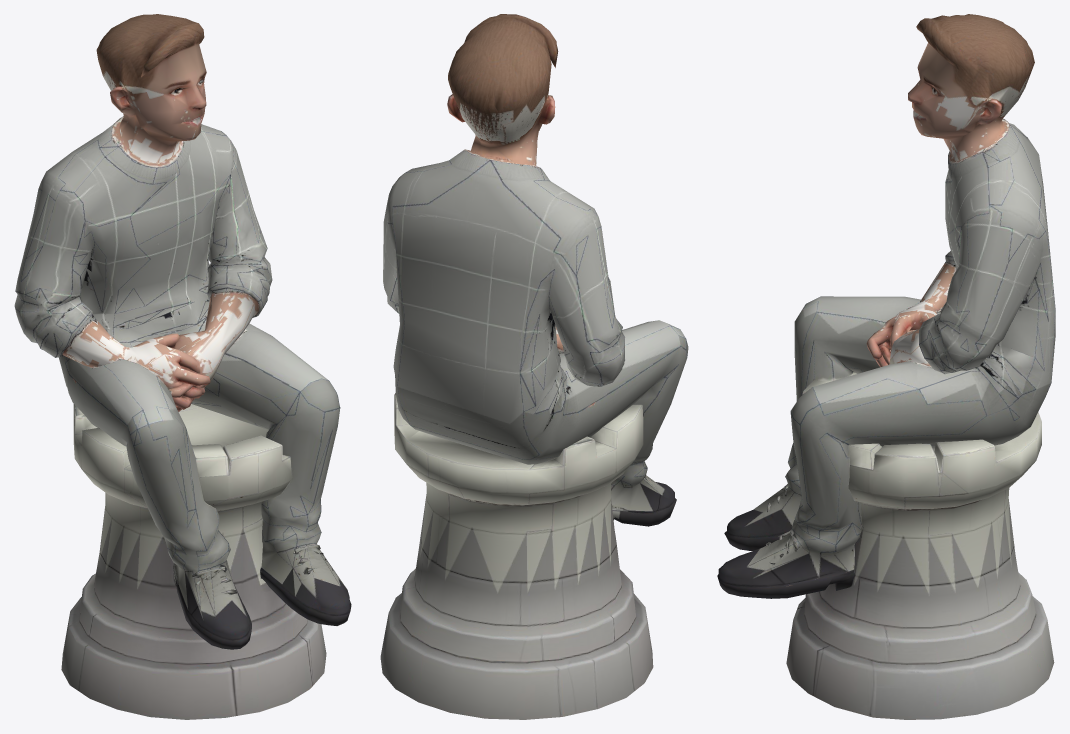
File: Rook_Alex_White.glb
The picture shows the model from 3 angles, left to right: view 1: azimuth 30°, elevation 25°; view 2: azimuth 150°, elevation 25°; view 3: azimuth 270°, elevation 25°; orthographic projection. The views are drawn at different scales.
Visible parts, largest first — view 1: tripo_node_13b20d3c-01ea-4338-8728-752922d211e0; view 2: tripo_node_13b20d3c-01ea-4338-8728-752922d211e0; view 3: tripo_node_13b20d3c-01ea-4338-8728-752922d211e0.
Boxes of the visible parts, box(x1,y1,x2,y2) form: tripo_node_13b20d3c-01ea-4338-8728-752922d211e0: box(14, 14, 351, 719); tripo_node_13b20d3c-01ea-4338-8728-752922d211e0: box(380, 14, 688, 719); tripo_node_13b20d3c-01ea-4338-8728-752922d211e0: box(717, 14, 1055, 719).
Bounding box in the file's own units: 0.416 × 0.998 × 0.4785.
1 material, 1 textured.
